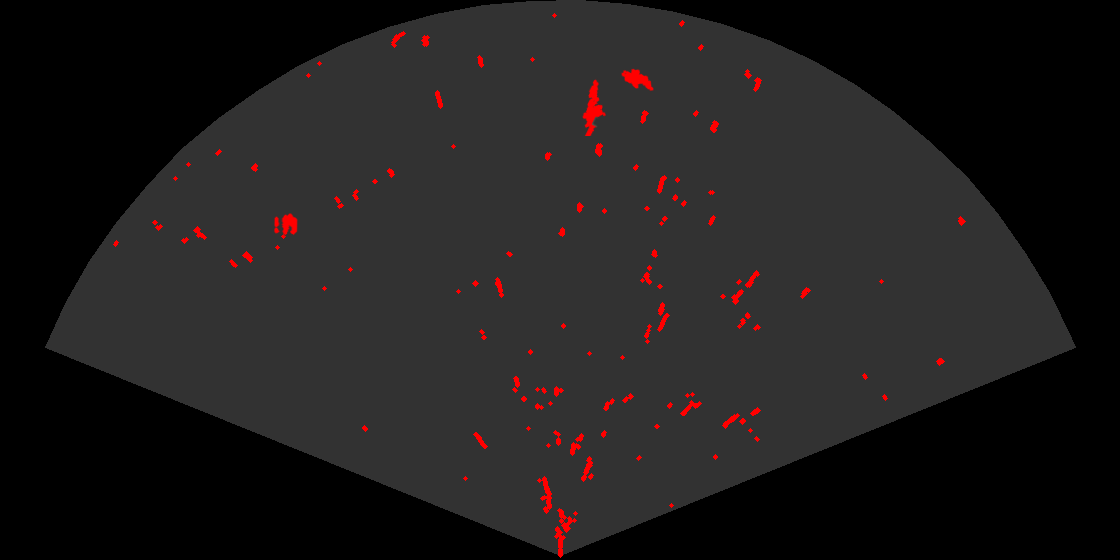AUV: (620, 67, 655, 93)
ball: (273, 212, 299, 237)
frogman: (581, 77, 607, 136)
